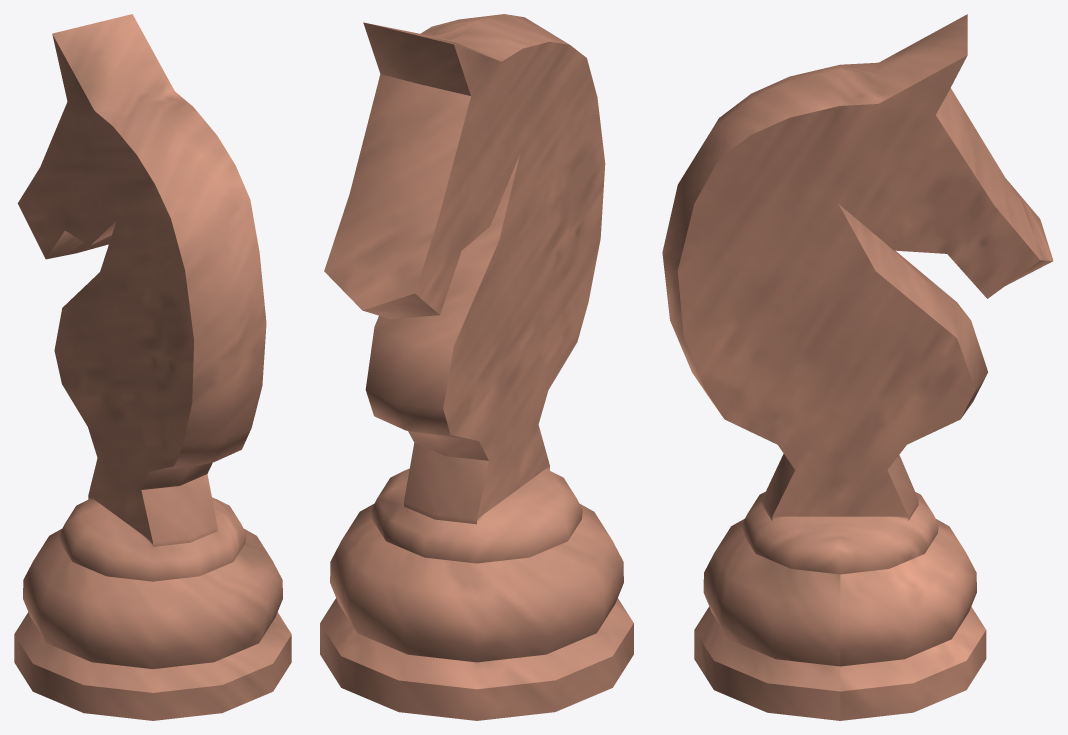
File: Chess_White_horse.fbx
3 renders of one model, left to right at view 1: azimuth 30°, elevation 25°; view 2: azimuth 150°, elevation 25°; view 3: azimuth 270°, elevation 25°, orthographic. The views are drawn at different scales.
Visible parts, largest first — view 1: Chess_pawn.007; view 2: Chess_pawn.007; view 3: Chess_pawn.007.
Part boxes in pixels (bbox=[...]): Chess_pawn.007: bbox=[14, 14, 291, 720]; Chess_pawn.007: bbox=[320, 14, 633, 720]; Chess_pawn.007: bbox=[662, 14, 1053, 720].
Bounding box in the file's own units: 22.17 × 52.36 × 29.71.
